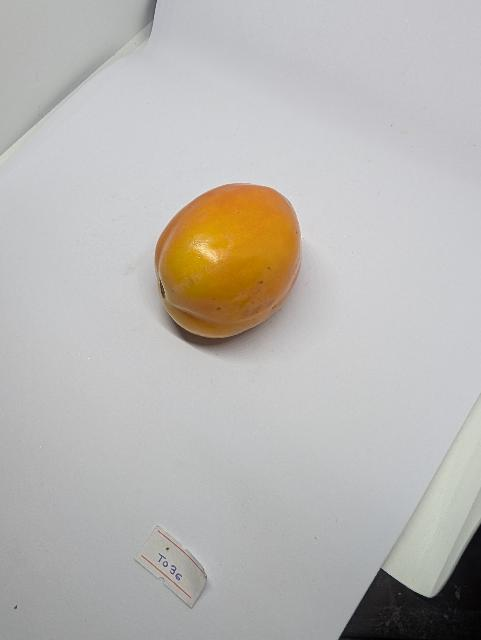turning: (146, 163, 312, 361)
